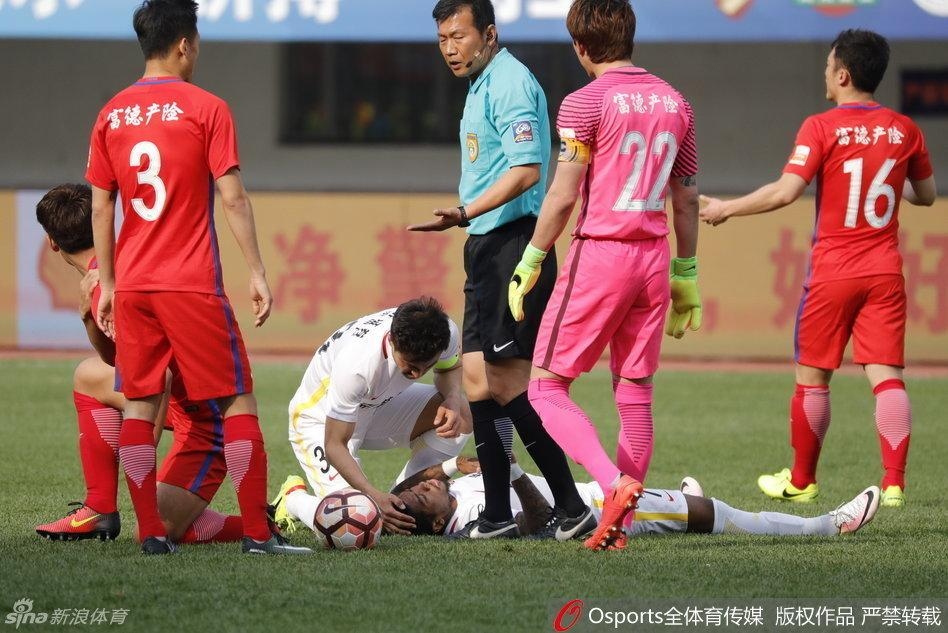bending: (284, 287, 477, 550)
down: (387, 451, 882, 553)
up: (85, 1, 276, 551), (525, 1, 690, 549), (761, 23, 932, 502), (438, 1, 569, 539)
